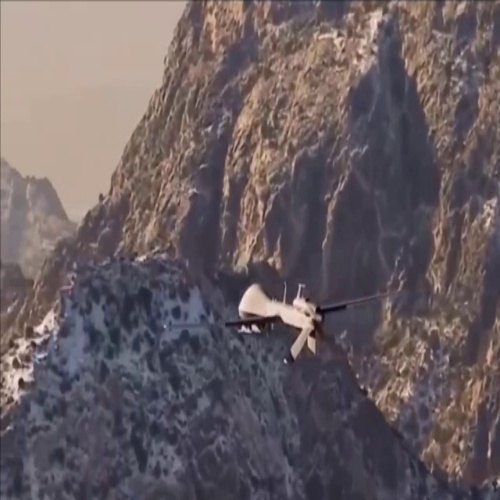uav: (162, 279, 406, 364)
